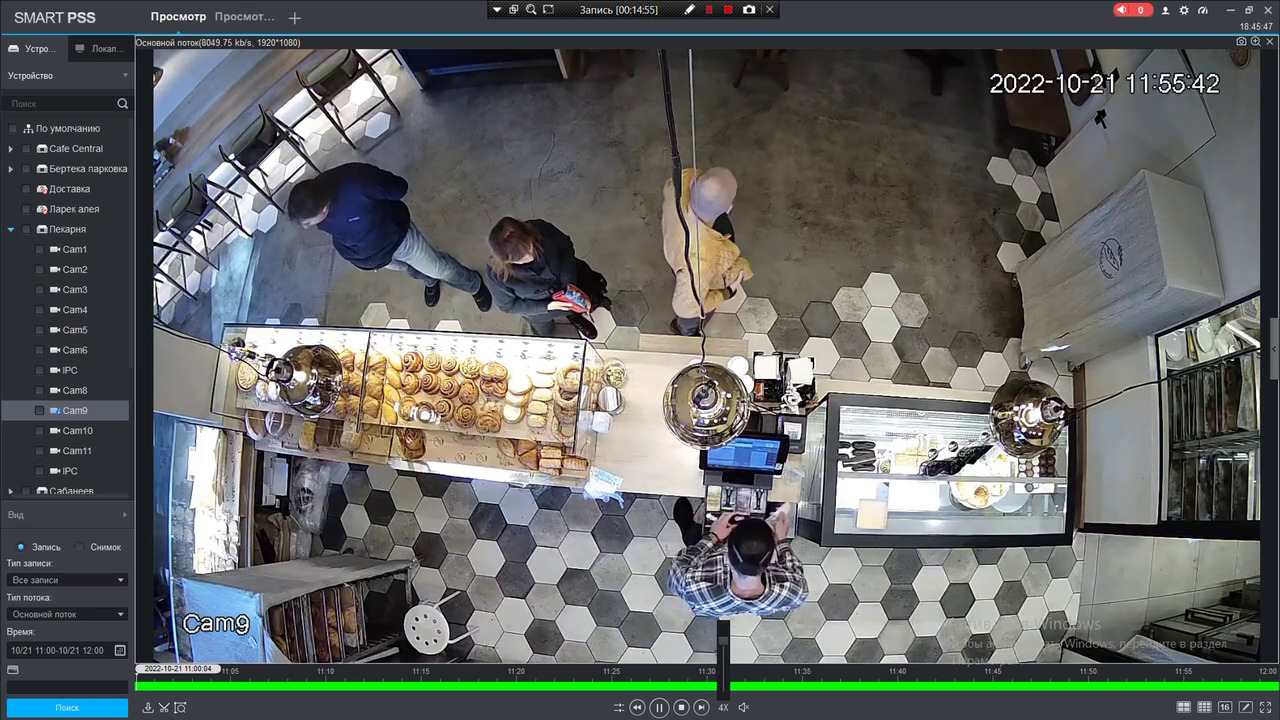barcounter: (197, 331, 1080, 522)
openedcash: (702, 435, 785, 543)
person: (285, 172, 480, 308), (473, 224, 620, 346), (665, 503, 822, 615), (649, 163, 756, 323)
